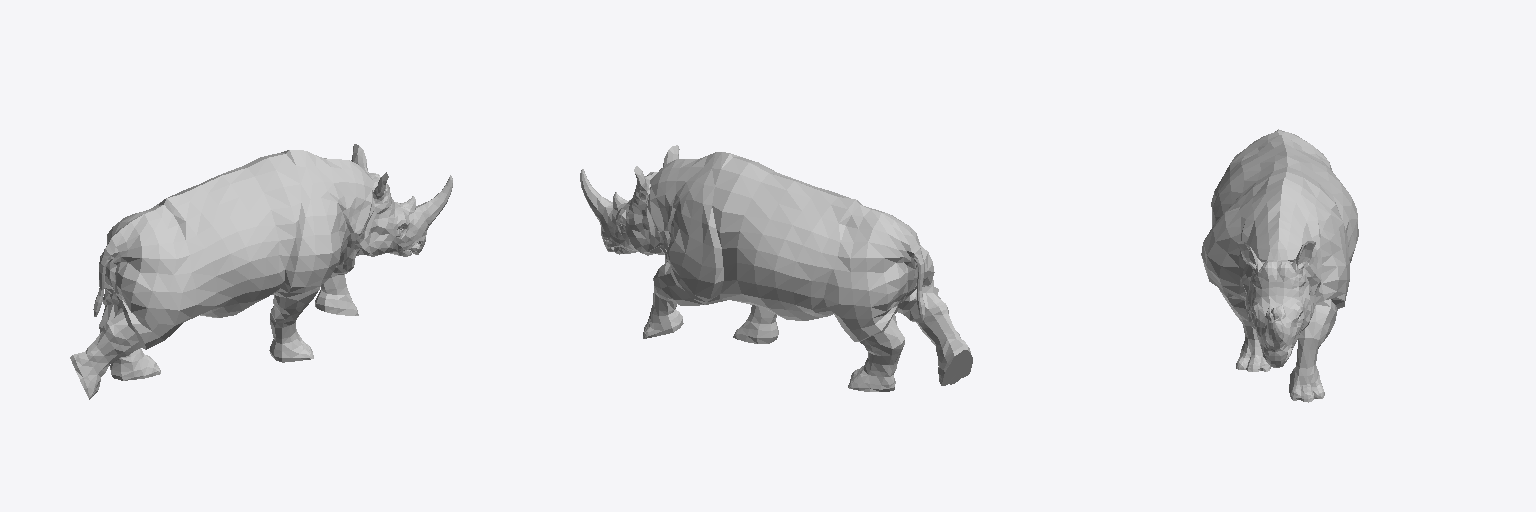
File: rinoceronte.obj
The picture shows the model from 3 angles: view 1: azimuth 30°, elevation 25°; view 2: azimuth 150°, elevation 25°; view 3: azimuth 270°, elevation 25°; orthographic projection.
Parts seen in each view (by area): view 1: Rhino; view 2: Rhino; view 3: Rhino.
Boxes of the visible parts, x1,y1,x2,y2 form: Rhino: [70, 144, 452, 399]; Rhino: [580, 145, 972, 391]; Rhino: [1201, 129, 1358, 402].
Size of the model in its own units: 34.14 by 16.24 by 12.13.